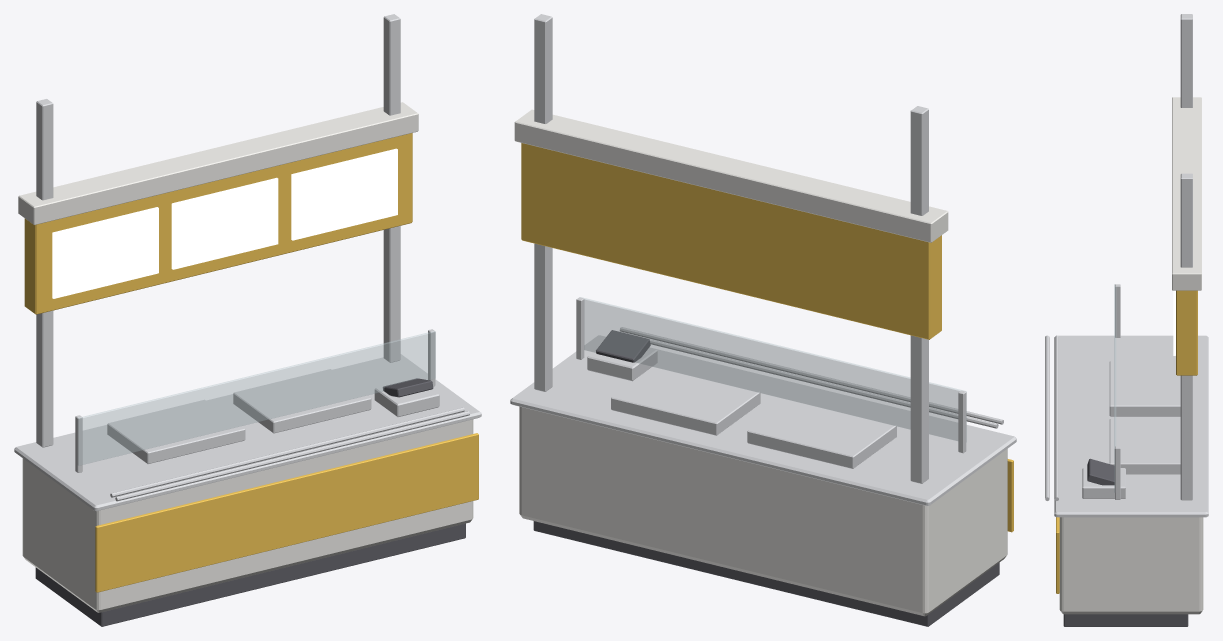
File: motorway-services-and-truck-park-food-court-counter-am-40105366__35931.glb
3 renders of one model, left to right at view 1: azimuth 30°, elevation 25°; view 2: azimuth 150°, elevation 25°; view 3: azimuth 270°, elevation 25°, orthographic. The views are drawn at different scales.
Parts seen in each view (by area): view 1: food-court-counter-amber; view 2: food-court-counter-amber; view 3: food-court-counter-amber.
Part boxes in pixels (left/top/right/bottom): food-court-counter-amber: left=14, top=14, right=481, bottom=626; food-court-counter-amber: left=510, top=14, right=1016, bottom=626; food-court-counter-amber: left=1045, top=14, right=1208, bottom=626.
Size of the model in its own units: 3.08 by 3.61 by 1.2.
